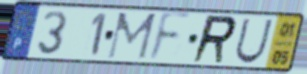1: (90, 12, 108, 58)
3: (36, 10, 70, 56)
F: (146, 10, 193, 65)
M: (104, 11, 159, 62)
R: (189, 13, 239, 66)
U: (233, 17, 275, 65)
